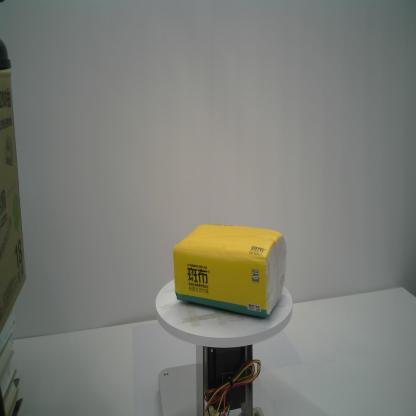Tissue: (172, 221, 288, 320)
